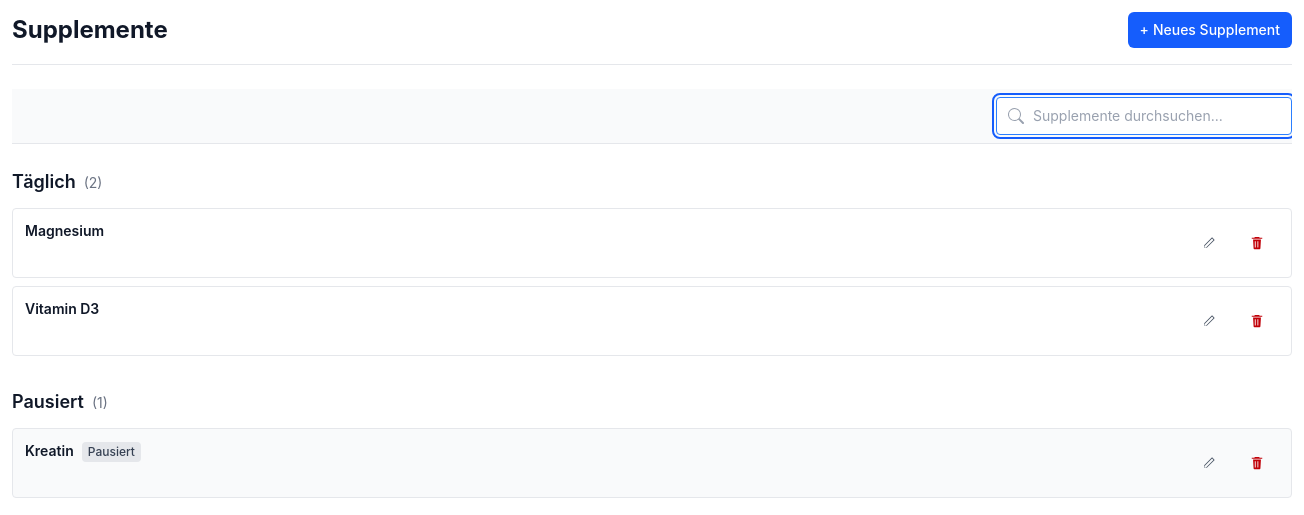
Scenario: SupplementsView › search filter (P-22c) › typing a query filters via group-keep semantic (child match)
The image size is (1304, 515).
Type "Magnesium" into the search field at (1144, 116), box [996,97,1292,135]
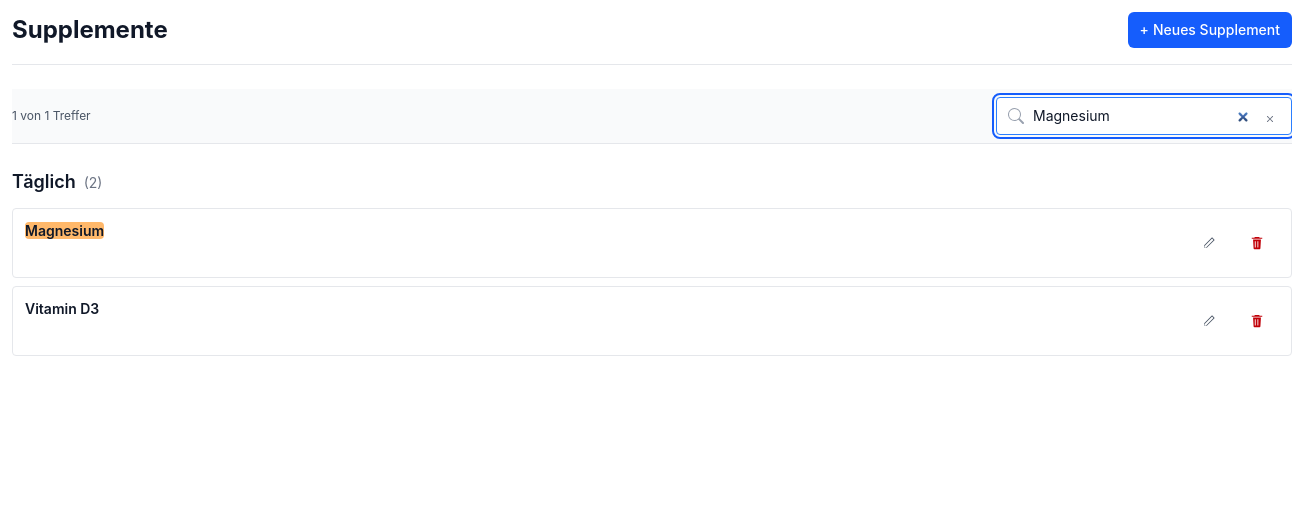
Expected: the heading "Täglich (2)" is shown, [12,171,102,192]
Expected: the text "Pausiert" is gone
